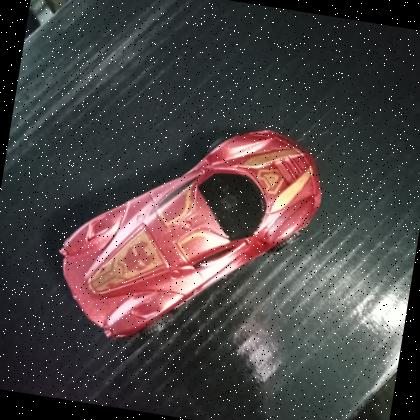Car: (42, 93, 338, 375)
